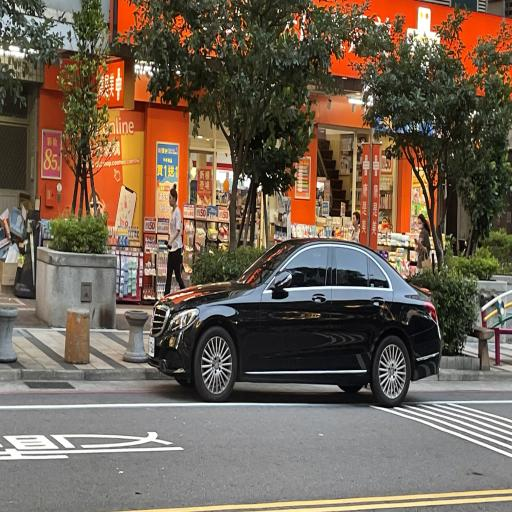MIU: (129, 338, 250, 408)
car: (141, 228, 447, 414)
redline: (1, 374, 200, 403)
